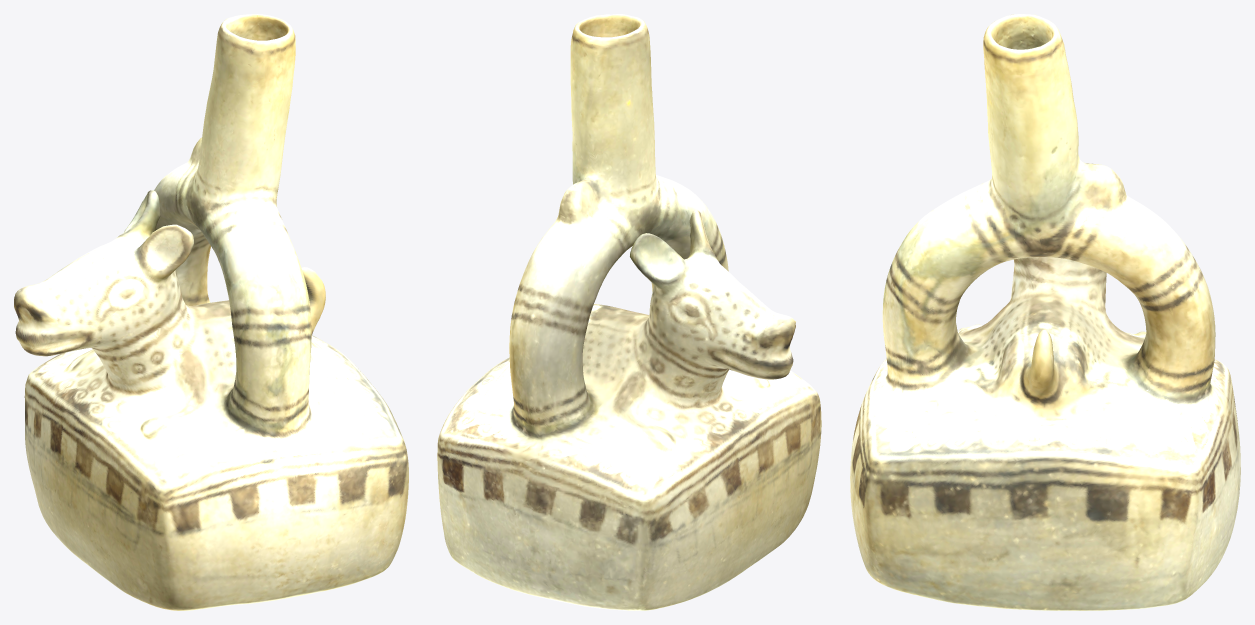
Rendered from botella_zoomorfa.glb.
3 renders of one model, left to right at view 1: azimuth 30°, elevation 25°; view 2: azimuth 150°, elevation 25°; view 3: azimuth 270°, elevation 25°, orthographic. The views are drawn at different scales.
Parts seen in each view (by area): view 1: Model; view 2: Model; view 3: Model.
Boxes of the visible parts, x1=… form: Model: x1=14, y1=14, x2=408, y2=610; Model: x1=437, y1=14, x2=821, y2=610; Model: x1=850, y1=14, x2=1240, y2=610.
Size of the model in its own units: 2.66 by 4.09 by 2.66.
